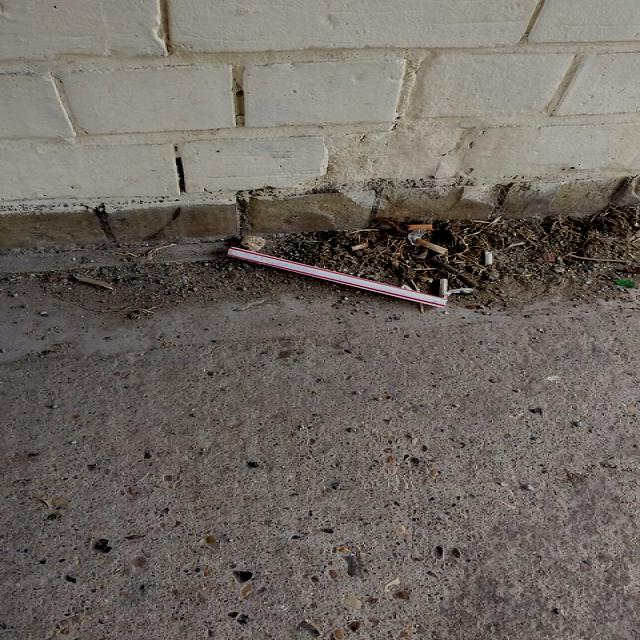Trash: (222, 232, 465, 310)
